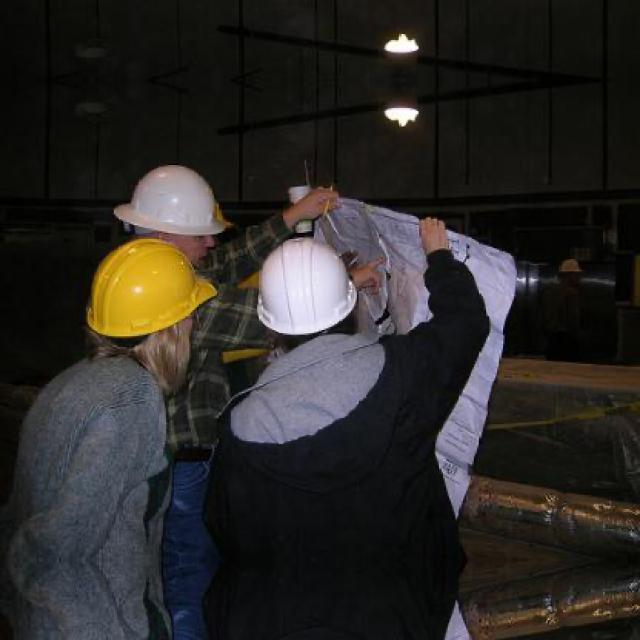2: (112, 167, 338, 555), (210, 224, 462, 558), (1, 247, 212, 552), (211, 562, 463, 638), (1, 568, 214, 638)
helmet: (78, 220, 218, 376), (231, 228, 380, 369), (117, 153, 231, 282)
